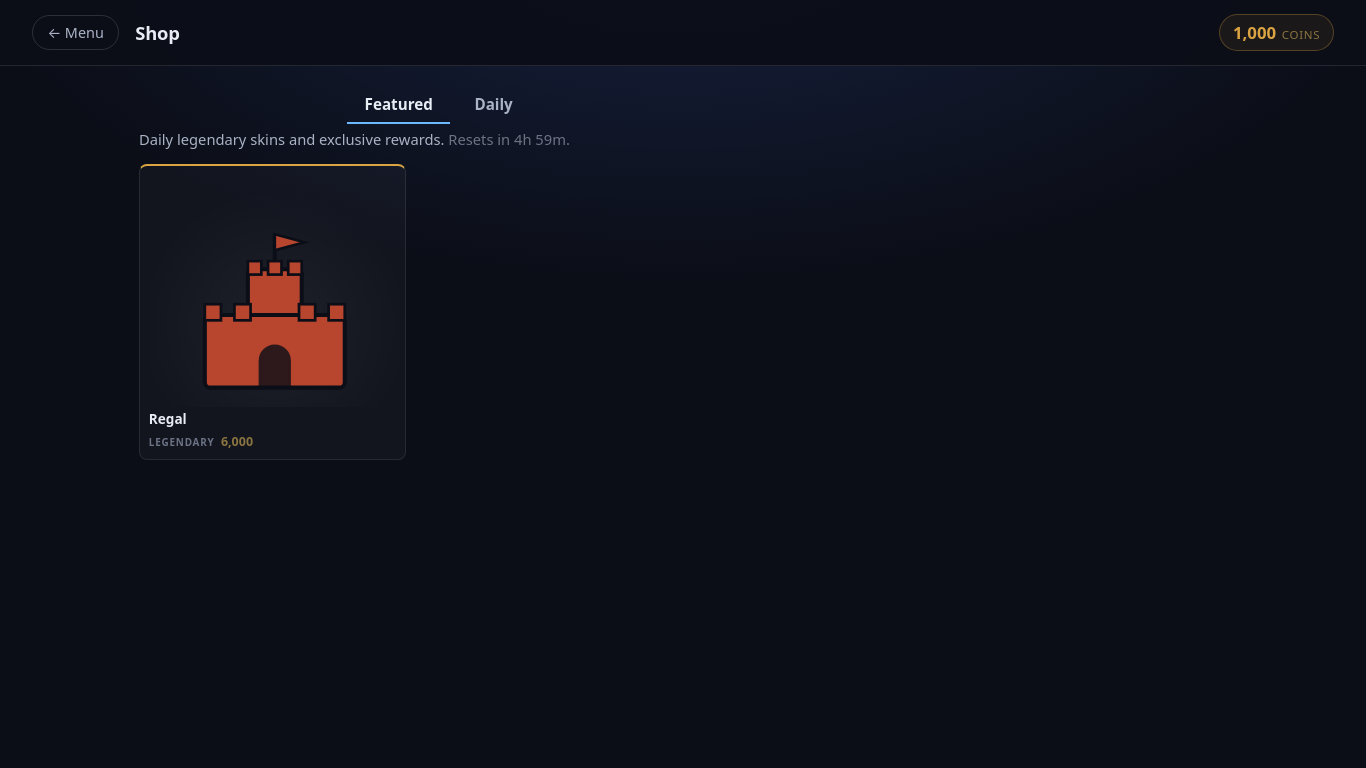
StoreScreen › SELECTING IS NOT BUYING - the card opens the detail, the detail buys
Click the text "Regal". click: (168, 420)
box: [149,412,187,428]
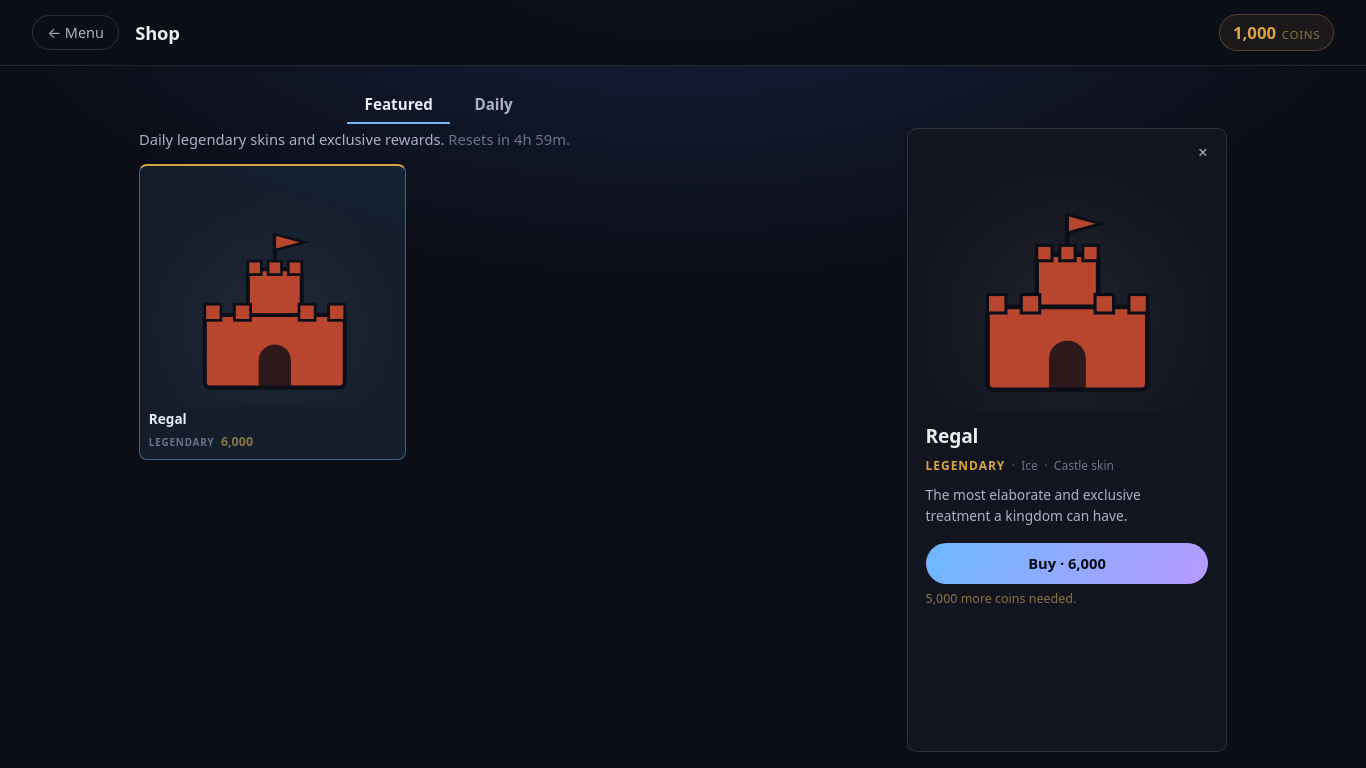
expect the element named "Regal details" is shown: met, box [907,128,1227,752]
